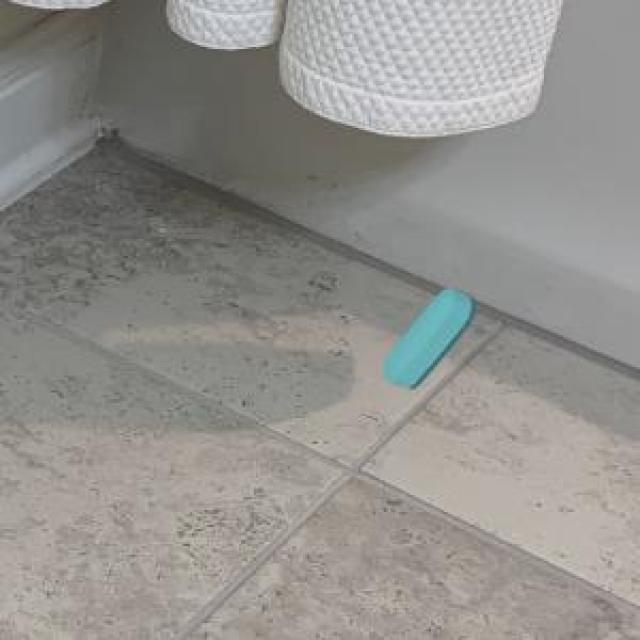Bioflu: (370, 278, 484, 396)
